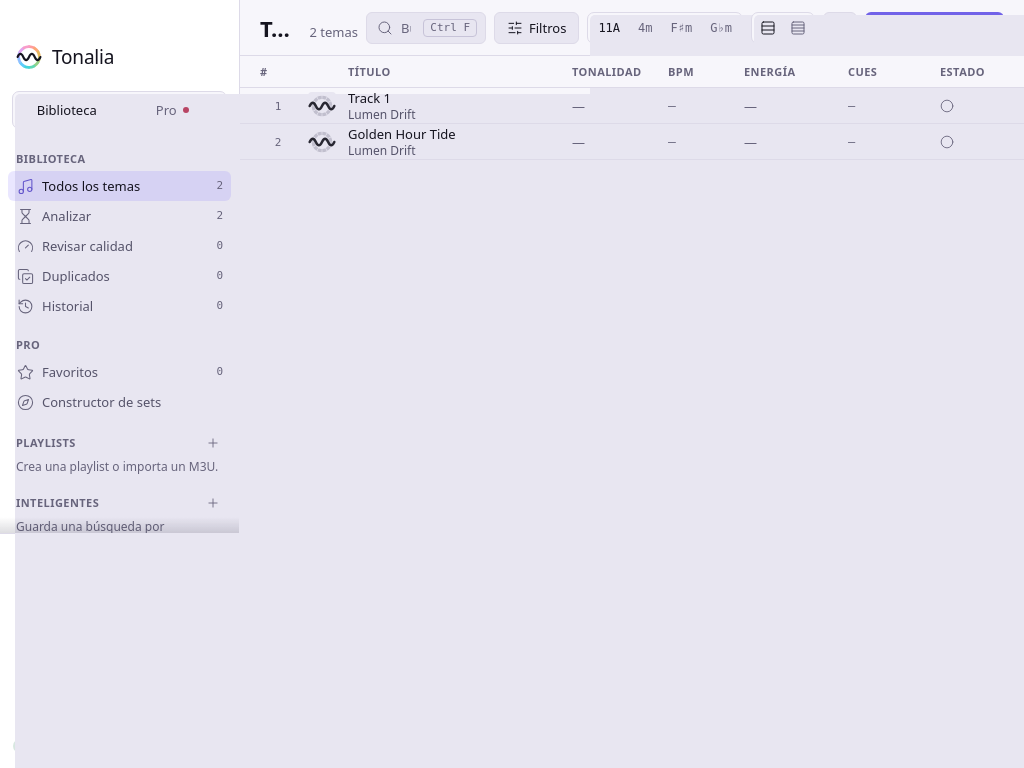
Test: is reachable from the sidebar
Expected: the text "2 temas" is shown, [310,22,358,42]
Click the button "Exportar": (120, 599) [12,584,227,614]
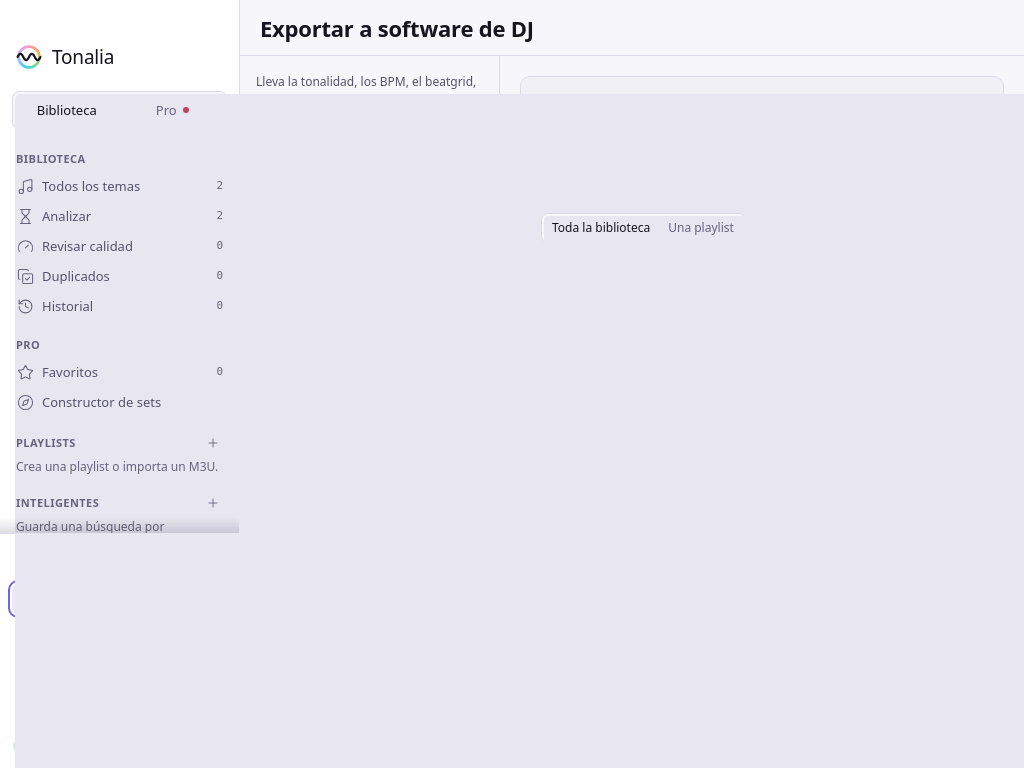
Expected: the heading "Exportar a software de DJ" is shown, [260,14,534,42]
